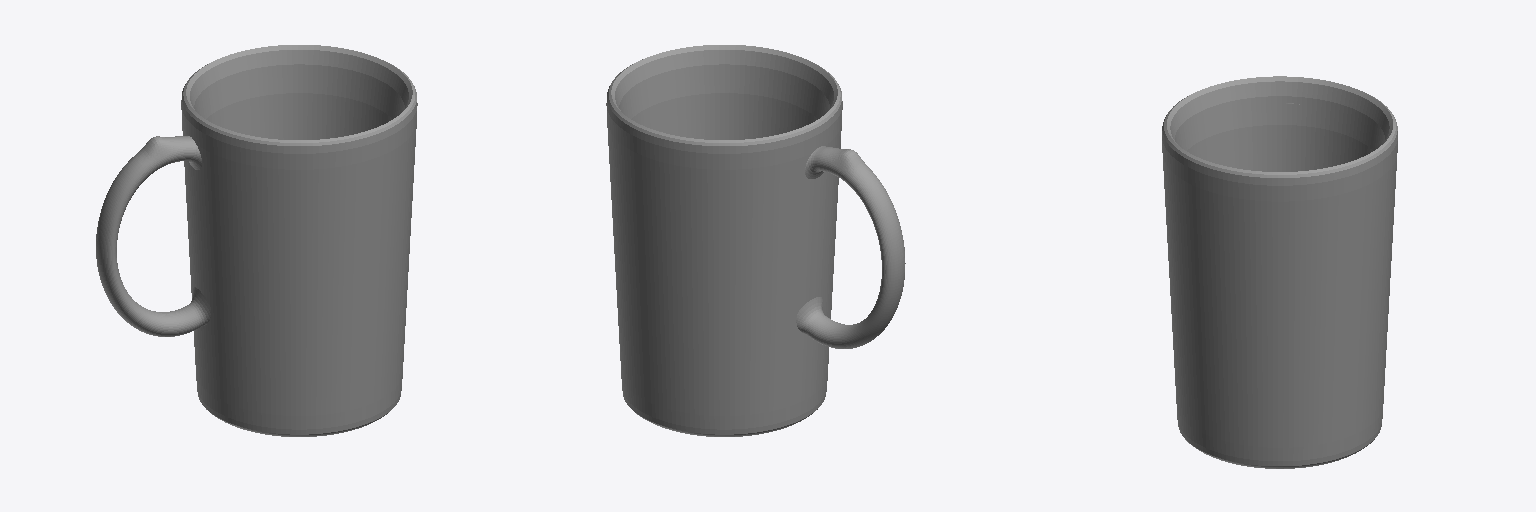
File: TeaCup.obj
3 views of the same model, side by side, from view 1: azimuth 30°, elevation 25°; view 2: azimuth 150°, elevation 25°; view 3: azimuth 270°, elevation 25° (orthographic).
Parts seen in each view (by area): view 1: Cylinder; view 2: Cylinder; view 3: Cylinder.
Boxes of the visible parts, x1,y1,x2,y2 form: Cylinder: [96, 45, 417, 436]; Cylinder: [606, 45, 905, 436]; Cylinder: [1162, 76, 1397, 468].
Bounding box in the file's own units: 2.81 × 2.82 × 1.97.